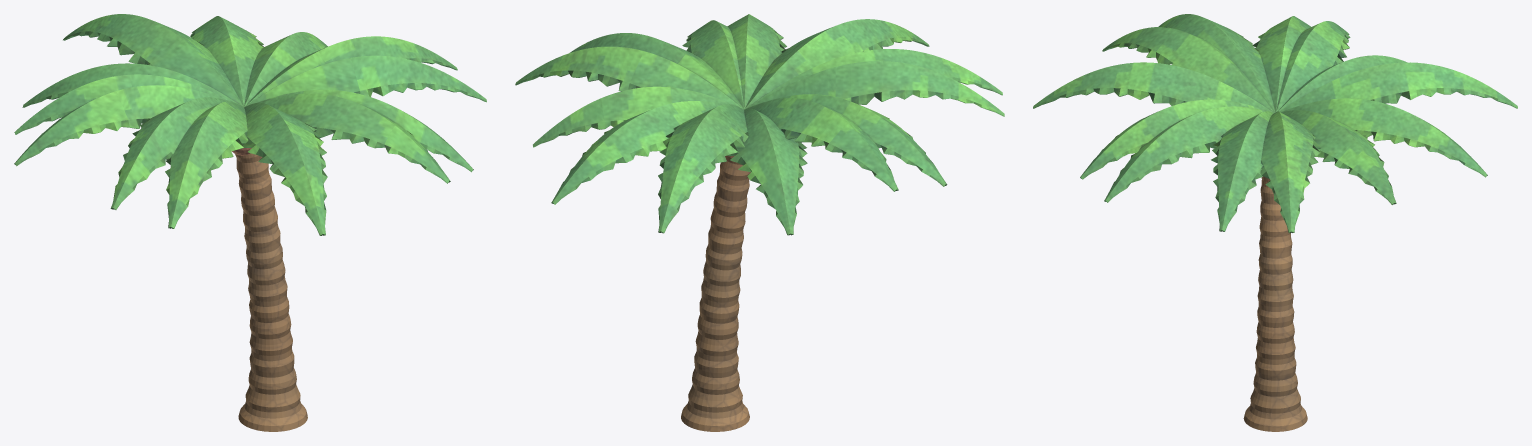
File: WM_Palm_C.fbx
The picture shows the model from 3 angles, left to right: view 1: azimuth 30°, elevation 25°; view 2: azimuth 150°, elevation 25°; view 3: azimuth 270°, elevation 25°; orthographic projection. The views are drawn at different scales.
Visible parts, largest first — view 1: WM_Palm_C_LOD0; view 2: WM_Palm_C_LOD0; view 3: WM_Palm_C_LOD0.
Part boxes in pixels (x1,y1,x2,y2): WM_Palm_C_LOD0: (14,14,486,431); WM_Palm_C_LOD0: (515,14,1004,431); WM_Palm_C_LOD0: (1033,14,1517,431).
Size of what is drawn, in the model's own units: 3.6 by 2.88 by 3.76.
